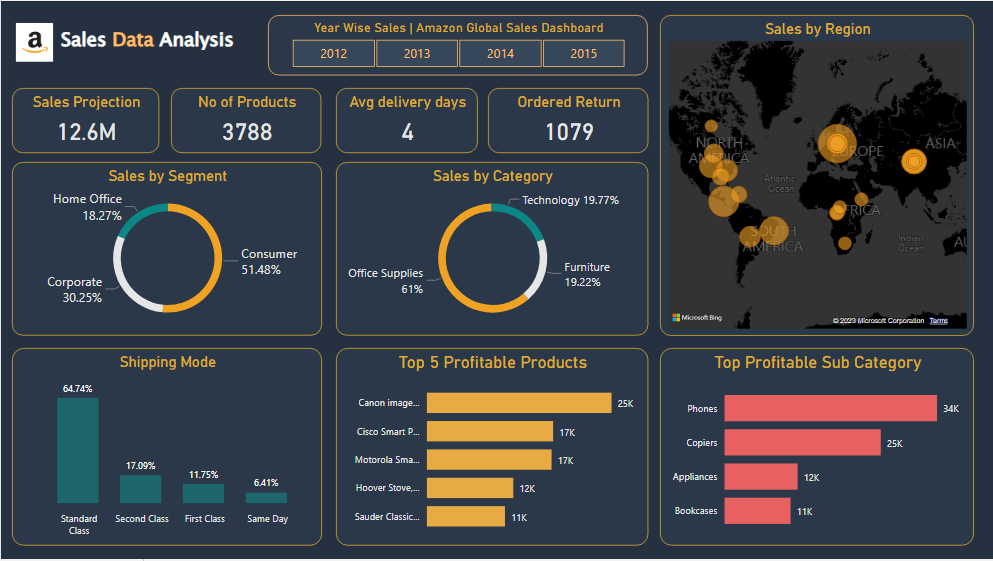

Layout of this report page (visuals, bound fields, positions):
{"tool":"powerbi","page":{"name":"Report","canvas":[1280,720],"ordinal":0},"visuals":[{"type":"textbox","box":[61.2,27.5,256.2,58.8],"z":0},{"type":"image","box":[13.8,18.8,57.5,67.5],"z":1000},{"type":"slicer","title":"Year Wise Sales | Amazon Global Sales Dashboard","fields":{"Values":["Orders.Year"]},"box":[344.4,18.4,490.4,78],"z":2000},{"type":"card","title":"Sales Projection","fields":{"Values":["Sum(Orders.Sales)"]},"box":[13.8,112.5,190,83.8],"z":3000},{"type":"card","title":"No of Products ","fields":{"Values":["Count(Orders.Product Name)"]},"box":[219.7,112,194.2,83.6],"z":4000},{"type":"card","title":"Ordered Return","fields":{"Values":["CountNonNull(Returns.Returned)"]},"box":[627.9,112,206.9,83.6],"z":5000},{"type":"card","title":"Avg delivery days","fields":{"Values":["Avg(Orders.Del Date)"]},"box":[432.3,112,182.8,83.6],"z":6000},{"type":"donutChart","title":"Sales by Segment","fields":{"Category":["Orders.Segment"],"Y":["Sum(Orders.Sales)"]},"box":[14.2,208.3,399.7,223.9],"z":7000},{"type":"donutChart","title":"Sales by Category","fields":{"Y":["CountNonNull(Orders.Category)"],"Category":["Orders.Category"]},"box":[432.3,208.3,402.5,223.9],"z":8000},{"type":"clusteredColumnChart","title":"Shipping Mode","fields":{"Category":["Orders.Ship Mode"],"Y":["CountNonNull(Orders.Customer ID)"]},"box":[14.2,447.9,399.7,255.1],"z":9000},{"type":"clusteredBarChart","title":"Top 5 Profitable Products","fields":{"Y":["Sum(Orders.Profit)"],"Category":["Orders.Product Name"]},"box":[432.3,447.9,402.5,255.1],"z":10000},{"type":"clusteredBarChart","title":"Top Profitable Sub Category","fields":{"Y":["Sum(Orders.Profit)"],"Category":["Orders.Sub-Category"]},"box":[850.4,447.9,405.4,255.1],"z":11000},{"type":"map","title":"Sales by Region","fields":{"Category":["Orders.Region"],"Size":["Sum(Orders.Sales)"]},"box":[850.4,18.4,405.4,413.9],"z":12000}]}

Visuals, with their boxes in screenshot pixels (x1, y1, x2, y2), scaled from the page's 1280x720 canvas onto the 993x561 screenshot:
textbox: bbox=[47, 21, 246, 67]
image: bbox=[11, 15, 55, 67]
"Year Wise Sales | Amazon Global Sales Dashboard" slicer: bbox=[267, 14, 648, 75]
"Sales Projection" card: bbox=[11, 88, 158, 153]
"No of Products " card: bbox=[170, 87, 321, 152]
"Ordered Return" card: bbox=[487, 87, 648, 152]
"Avg delivery days" card: bbox=[335, 87, 477, 152]
"Sales by Segment" donutChart: bbox=[11, 162, 321, 337]
"Sales by Category" donutChart: bbox=[335, 162, 648, 337]
"Shipping Mode" clusteredColumnChart: bbox=[11, 349, 321, 548]
"Top 5 Profitable Products" clusteredBarChart: bbox=[335, 349, 648, 548]
"Top Profitable Sub Category" clusteredBarChart: bbox=[660, 349, 974, 548]
"Sales by Region" map: bbox=[660, 14, 974, 337]
